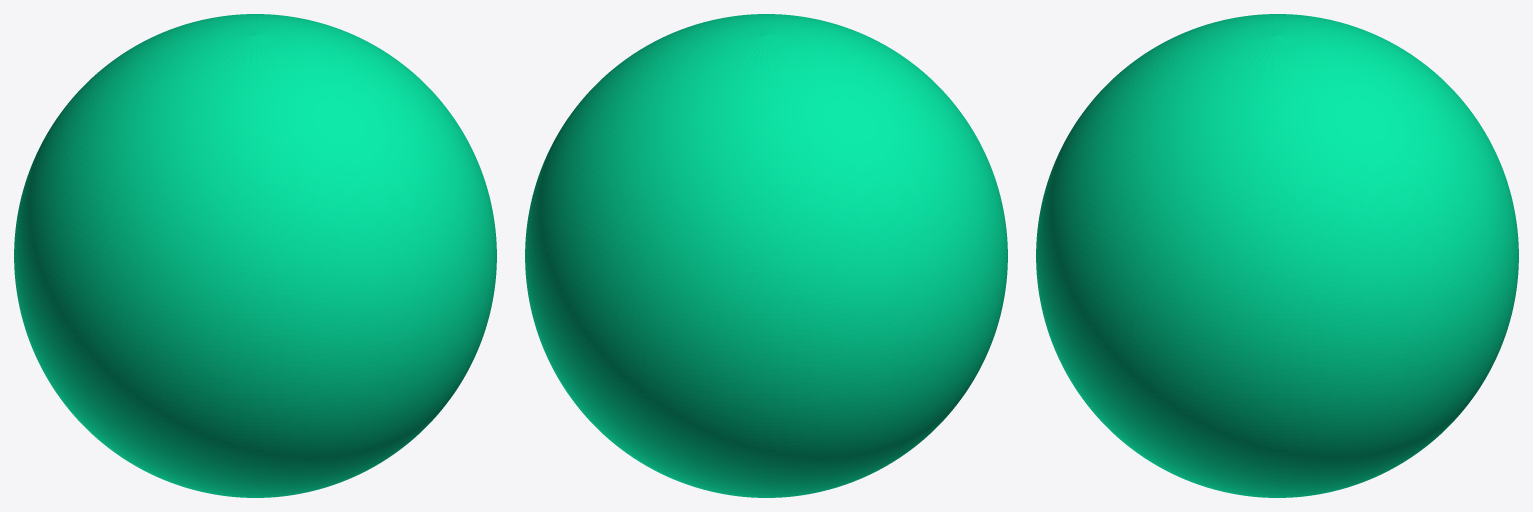
File: top.fbx
The picture shows the model from 3 angles, left to right: view 1: azimuth 30°, elevation 25°; view 2: azimuth 150°, elevation 25°; view 3: azimuth 270°, elevation 25°; orthographic projection.
Parts seen in each view (by area): view 1: Sphere; view 2: Sphere; view 3: Sphere.
Part boxes in pixels (x1=…): Sphere: x1=14, y1=14, x2=496, y2=497; Sphere: x1=525, y1=14, x2=1007, y2=497; Sphere: x1=1036, y1=14, x2=1518, y2=497.
Size of the model in its own units: 198 by 200 by 198.
